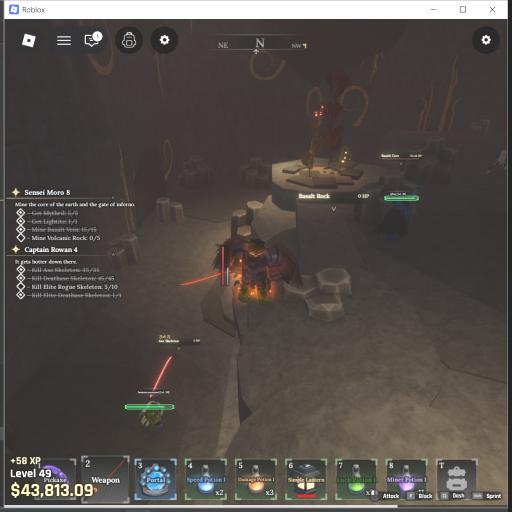player: (212, 235, 302, 304)
rock: (284, 268, 351, 321), (405, 136, 457, 184), (107, 234, 142, 269), (179, 155, 214, 188), (231, 201, 263, 235), (239, 157, 272, 188), (157, 197, 184, 222), (466, 119, 490, 137)
